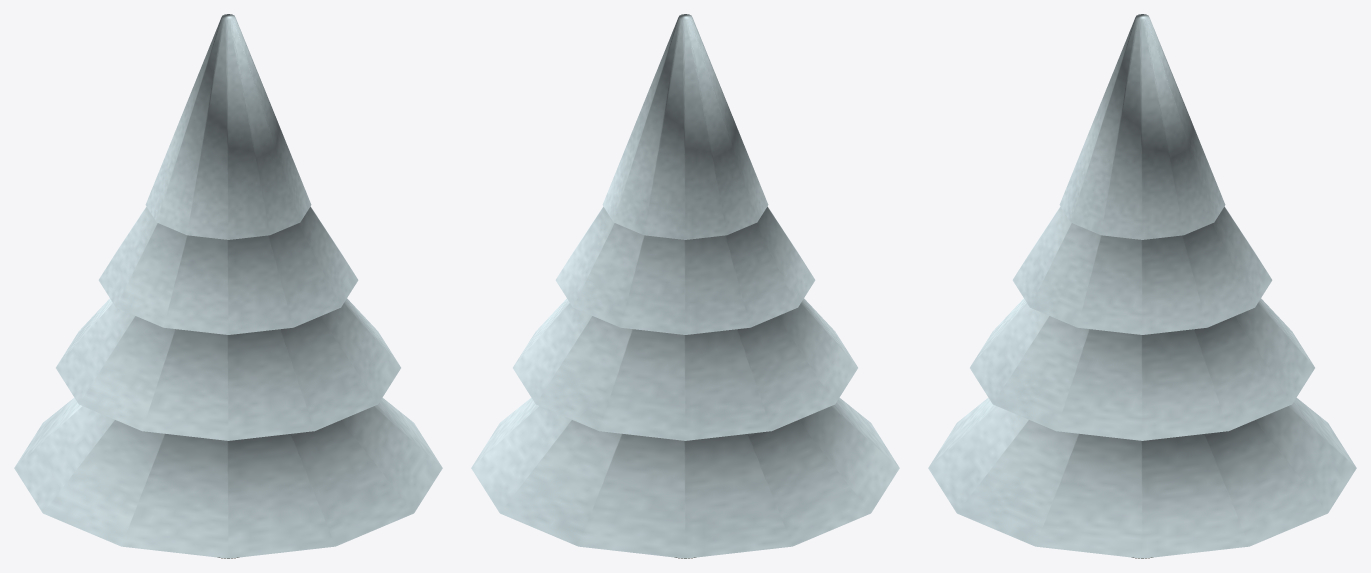
The model's file is snowPine.glb.
The picture shows the model from 3 angles, left to right: view 1: azimuth 30°, elevation 25°; view 2: azimuth 150°, elevation 25°; view 3: azimuth 270°, elevation 25°; orthographic projection.
Parts seen in each view (by area): view 1: Snow bough, Snow bough.001, Snow bough.002, Snow bough.003; view 2: Snow bough, Snow bough.001, Snow bough.002, Snow bough.003; view 3: Snow bough, Snow bough.001, Snow bough.002, Snow bough.003.
Boxes of the visible parts, left/top/right/bottom form: Snow bough: left=14, top=397, right=442, bottom=558; Snow bough.001: left=56, top=298, right=400, bottom=440; Snow bough.002: left=98, top=206, right=358, bottom=334; Snow bough.003: left=145, top=14, right=311, bottom=239; Snow bough: left=471, top=397, right=899, bottom=558; Snow bough.001: left=513, top=298, right=857, bottom=440; Snow bough.002: left=555, top=206, right=815, bottom=334; Snow bough.003: left=602, top=14, right=768, bottom=239; Snow bough: left=928, top=397, right=1356, bottom=558; Snow bough.001: left=970, top=298, right=1314, bottom=440; Snow bough.002: left=1012, top=206, right=1272, bottom=334; Snow bough.003: left=1059, top=14, right=1225, bottom=239.
Size of the model in its own units: 3.1 by 4.25 by 3.1.
Materials: 2 (2 with a texture image).
